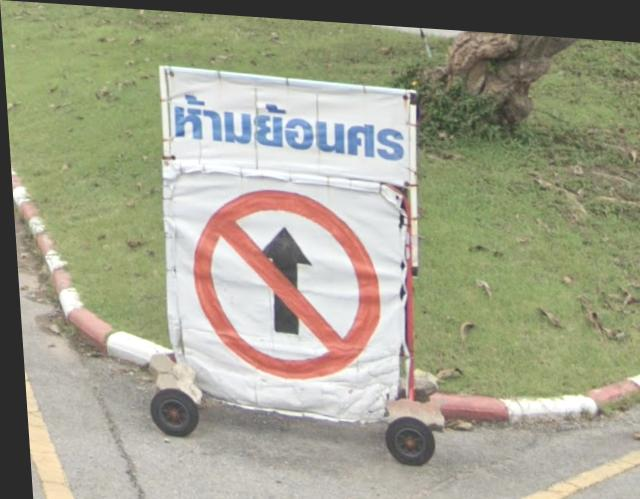not_go_straight: (181, 177, 383, 381)
